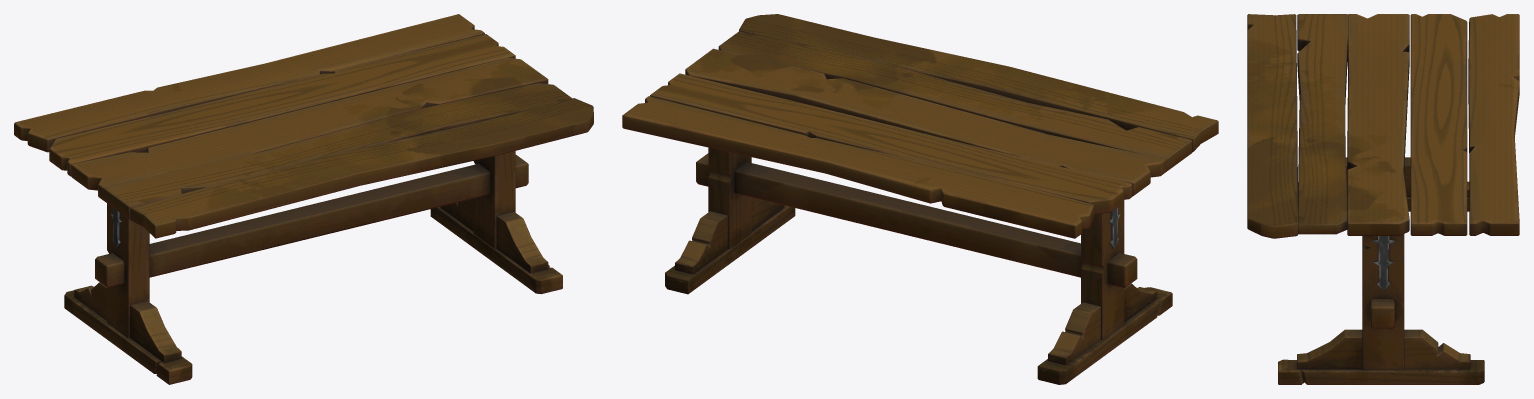
Rendered from SM_Table_01.gltf.
The picture shows the model from 3 angles, left to right: view 1: azimuth 30°, elevation 25°; view 2: azimuth 150°, elevation 25°; view 3: azimuth 270°, elevation 25°; orthographic projection. The views are drawn at different scales.
Parts seen in each view (by area): view 1: SM_Table_01; view 2: SM_Table_01; view 3: SM_Table_01.
Boxes of the visible parts, x1,y1,x2,y2 form: SM_Table_01: (14, 14, 593, 384); SM_Table_01: (622, 14, 1218, 384); SM_Table_01: (1247, 14, 1519, 384).
Size of the model in its own units: 2.15 by 0.8262 by 1.17.
1 material, 1 textured.
